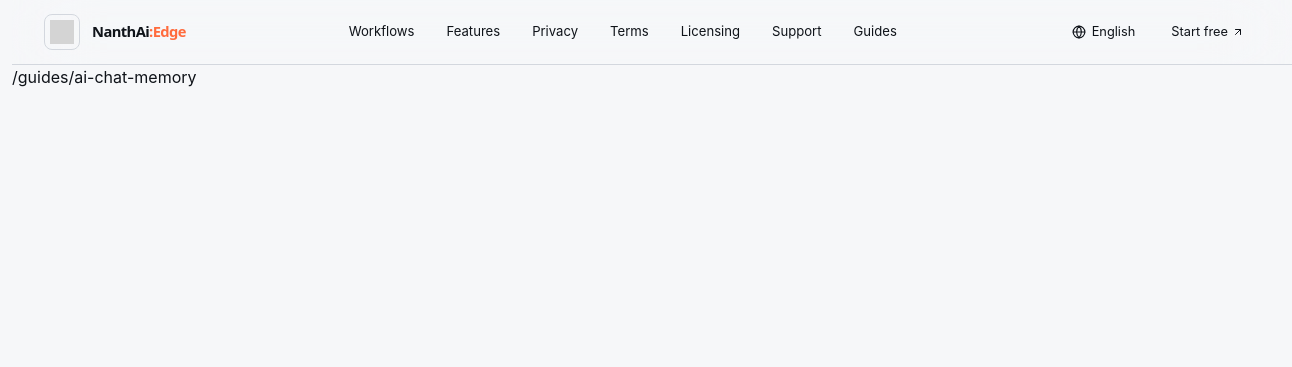
Test case: EdgeSiteHeader › navigates the same article between localised and English URLs
Click the button with aria-label "Change language, current language: English" at (1103, 32), box top-left (1060, 14), bottom-right (1147, 50)
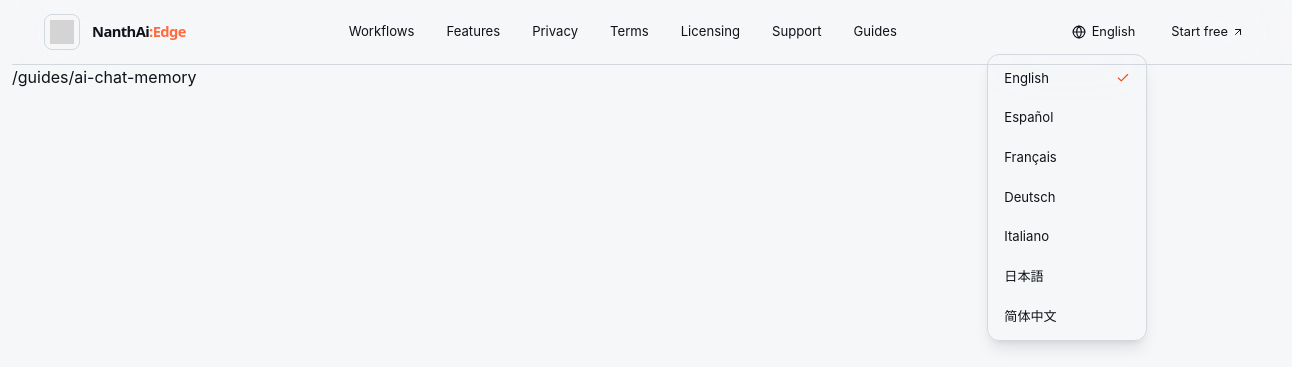
Click the menu item "Italiano" at (1067, 237), box top-left (988, 217), bottom-right (1146, 257)
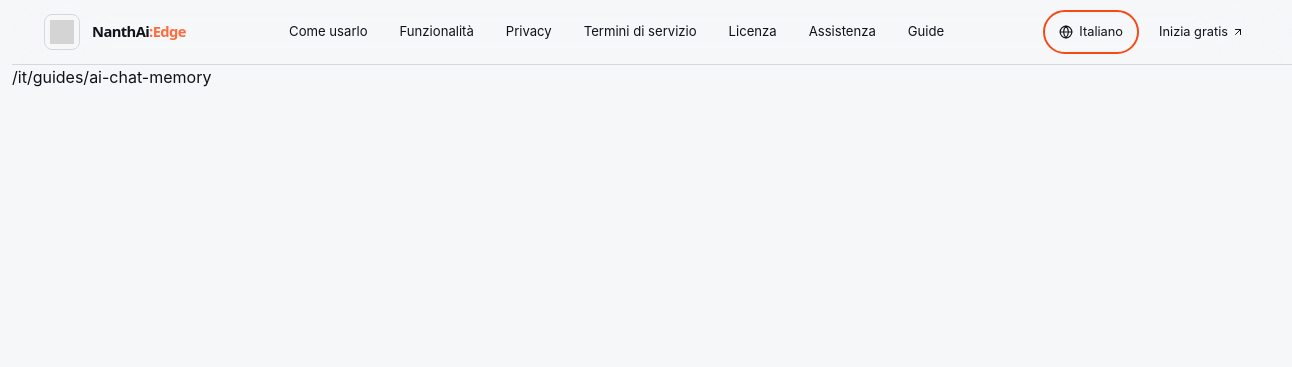
Result: the text "/it/guides/ai-chat-memory" is shown at top-left (12, 67), bottom-right (211, 87)
Click the button with aria-label "Cambia lingua" at (1091, 32), box top-left (1047, 14), bottom-right (1135, 50)
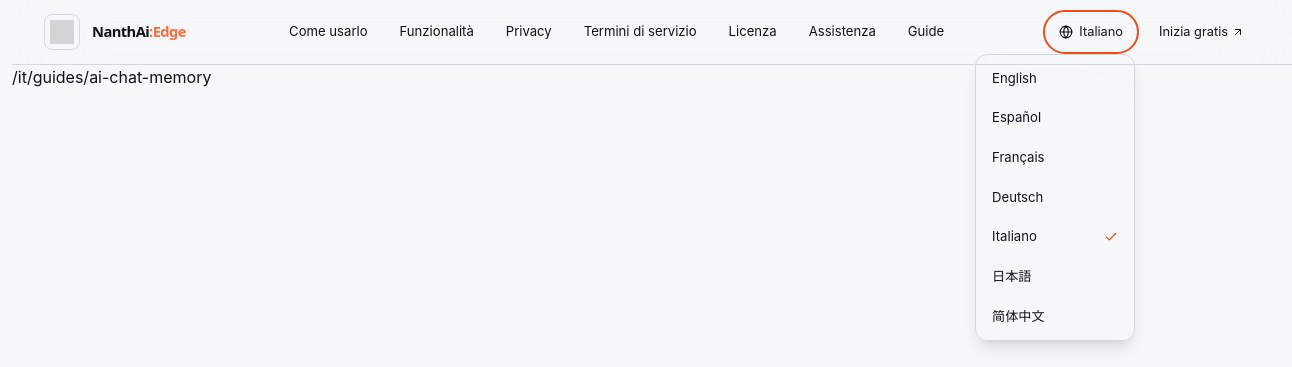
Click the menu item "English" at (1055, 78), box top-left (976, 59), bottom-right (1134, 98)
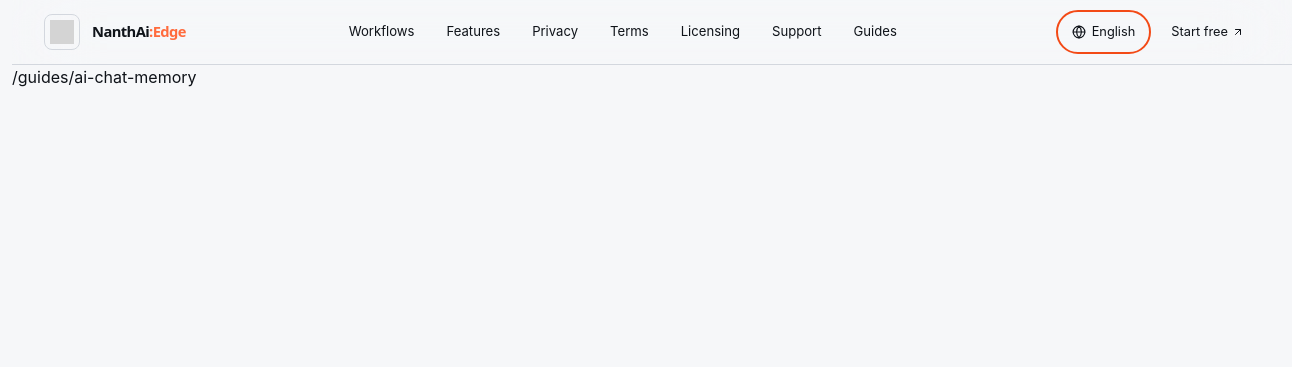
Result: the text "/guides/ai-chat-memory" is shown at top-left (12, 67), bottom-right (197, 87)
